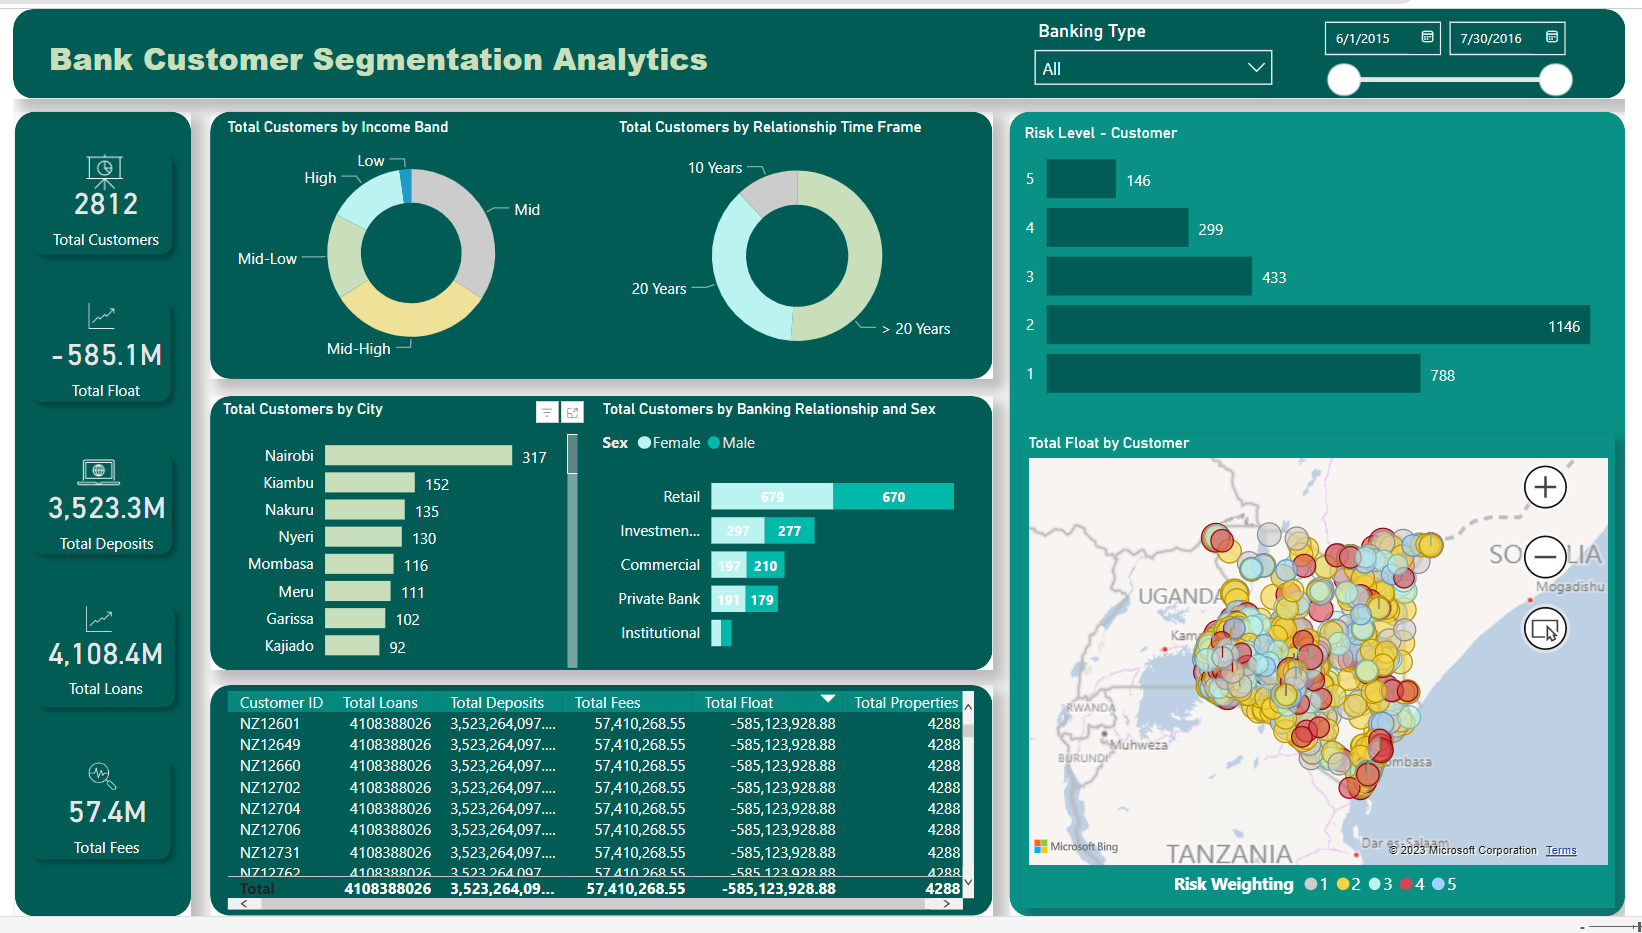

The dashboard page shown, as its layout file describes it:
{"tool":"powerbi","page":{"name":"Page 1","canvas":[1280,720],"ordinal":0},"visuals":[{"type":"shape","box":[156.2,81.2,621.2,212.5],"z":0},{"type":"shape","box":[1.2,81.2,140,638.8],"z":1000},{"type":"shape","box":[6.2,104.8,128.5,98.6],"z":2000},{"type":"shape","box":[5,222.1,128.5,98.6],"z":3000},{"type":"shape","box":[6.2,343.1,128.5,98.6],"z":4000},{"type":"shape","box":[8.7,464.2,128.5,98.6],"z":5000},{"type":"shape","box":[5,585.2,128.5,98.6],"z":6000},{"type":"shape","box":[0,0,1280,71.1],"z":7000},{"type":"shape","box":[156.2,536.2,621.2,183.8],"z":8000},{"type":"shape","box":[156.2,307.5,621.2,217.5],"z":9000},{"type":"shape","box":[791.2,81.2,488.8,638.8],"z":10000},{"type":"textbox","box":[23.4,16.1,607.3,45.4],"z":11000},{"type":"card","fields":{"Values":["Key Metrics.Total Clients"]},"box":[9,123,128.8,77.5],"z":12000},{"type":"card","fields":{"Values":["Key Metrics.Total Float"]},"box":[9,243.3,128.8,77.5],"z":13000},{"type":"card","fields":{"Values":["Key Metrics.Total Deposits"]},"box":[9,363.6,129,78],"z":14000},{"type":"card","fields":{"Values":["Key Metrics.Total Loans"]},"box":[8.7,484.1,129.8,68.6],"z":15000},{"type":"card","fields":{"Values":["Key Metrics.Total Fees"]},"box":[9,605.2,129,78],"z":16000},{"type":"donutChart","fields":{"Y":["Key Metrics.Total Clients"],"Category":["Banking Client Data.Income Band"]},"box":[165.4,86.3,301.5,200.5],"z":17000},{"type":"donutChart","fields":{"Y":["Key Metrics.Total Clients"],"Category":["Banking Client Data.Relationship Time Frame"]},"box":[475.6,86.3,292.7,204.9],"z":18000},{"type":"barChart","fields":{"Category":["Location Data.City"],"Y":["Key Metrics.Total Clients"]},"box":[161.3,310.5,292.1,217.6],"z":19000},{"type":"barChart","fields":{"Y":["Key Metrics.Total Clients"],"Category":["Banking Client Data.Banking Relationship"],"Series":["Banking Client Data.Sex"]},"box":[463.3,310.5,310.5,211.5],"z":20000},{"type":"barChart","title":"Risk Level - Customer","fields":{"Category":["Banking Client Data.Risk Weighting"],"Y":["Key Metrics.Total Clients"]},"box":[798.2,91.7,479.2,227.4],"z":21000},{"type":"slicer","fields":{"Values":["Banking Client Data.Banking Relationship"]},"box":[800.7,3.7,209,57.5],"z":22000},{"type":"table","fields":{"Values":["Bank Customers.Customer ID","Key Metrics.Total Loans","Key Metrics.Total Deposits","Key Metrics.Total Fees","Key Metrics.Total Float","Key Metrics.Total Properties"]},"box":[165.4,535.6,602.9,184.4],"z":23000},{"type":"slicer","fields":{"Values":["Banking Client Data.Last Contact"]},"box":[1028,0,217.6,80.7],"z":24000},{"type":"image","box":[44.9,104.8,56.1,48.7],"z":25000},{"type":"image","box":[43.7,223.4,53.6,39.9],"z":26000},{"type":"image","box":[43.7,344.4,48.7,46.2],"z":27000},{"type":"image","box":[39.9,590.2,61.1,37.4],"z":28000},{"type":"image","box":[41.2,464.2,53.6,39.9],"z":29000},{"type":"map","title":"Total Float by Customer","fields":{"Series":["Banking Client Data.Risk Weighting"],"Size":["Key Metrics.Total Float"],"Y":["Location Data.Latitude"],"X":["Location Data.Longitude"]},"box":[800.7,337.4,470.6,376.5],"z":30000}]}

Visuals, with their boxes in screenshot pixels (x1, y1, x2, y2), scaled from the page's 1280x720 canvas onto the 1642x933 screenshot:
shape: {"x1": 200, "y1": 105, "x2": 997, "y2": 381}
shape: {"x1": 2, "y1": 105, "x2": 181, "y2": 932}
shape: {"x1": 8, "y1": 136, "x2": 173, "y2": 264}
shape: {"x1": 6, "y1": 288, "x2": 171, "y2": 416}
shape: {"x1": 8, "y1": 445, "x2": 173, "y2": 572}
shape: {"x1": 11, "y1": 602, "x2": 176, "y2": 729}
shape: {"x1": 6, "y1": 758, "x2": 171, "y2": 886}
shape: {"x1": 0, "y1": 0, "x2": 1641, "y2": 92}
shape: {"x1": 200, "y1": 695, "x2": 997, "y2": 932}
shape: {"x1": 200, "y1": 398, "x2": 997, "y2": 680}
shape: {"x1": 1015, "y1": 105, "x2": 1641, "y2": 932}
textbox: {"x1": 30, "y1": 21, "x2": 809, "y2": 80}
card - Key Metrics.Total Clients: {"x1": 12, "y1": 159, "x2": 177, "y2": 260}
card - Key Metrics.Total Float: {"x1": 12, "y1": 315, "x2": 177, "y2": 416}
card - Key Metrics.Total Deposits: {"x1": 12, "y1": 471, "x2": 177, "y2": 572}
card - Key Metrics.Total Loans: {"x1": 11, "y1": 627, "x2": 178, "y2": 716}
card - Key Metrics.Total Fees: {"x1": 12, "y1": 784, "x2": 177, "y2": 885}
donutChart - Key Metrics.Total Clients x Banking Client Data.Income Band: {"x1": 212, "y1": 112, "x2": 599, "y2": 372}
donutChart - Key Metrics.Total Clients x Banking Client Data.Relationship Time Frame: {"x1": 610, "y1": 112, "x2": 986, "y2": 377}
barChart - Location Data.City x Key Metrics.Total Clients: {"x1": 207, "y1": 402, "x2": 582, "y2": 684}
barChart - Key Metrics.Total Clients x Banking Client Data.Banking Relationship: {"x1": 594, "y1": 402, "x2": 993, "y2": 676}
"Risk Level - Customer" barChart: {"x1": 1024, "y1": 119, "x2": 1639, "y2": 414}
slicer - Banking Client Data.Banking Relationship: {"x1": 1027, "y1": 5, "x2": 1295, "y2": 79}
table - Bank Customers.Customer ID x Key Metrics.Total Loans: {"x1": 212, "y1": 694, "x2": 986, "y2": 932}
slicer - Banking Client Data.Last Contact: {"x1": 1319, "y1": 0, "x2": 1598, "y2": 105}
image: {"x1": 58, "y1": 136, "x2": 130, "y2": 199}
image: {"x1": 56, "y1": 289, "x2": 125, "y2": 341}
image: {"x1": 56, "y1": 446, "x2": 119, "y2": 506}
image: {"x1": 51, "y1": 765, "x2": 130, "y2": 813}
image: {"x1": 53, "y1": 602, "x2": 122, "y2": 653}
"Total Float by Customer" map: {"x1": 1027, "y1": 437, "x2": 1631, "y2": 925}
